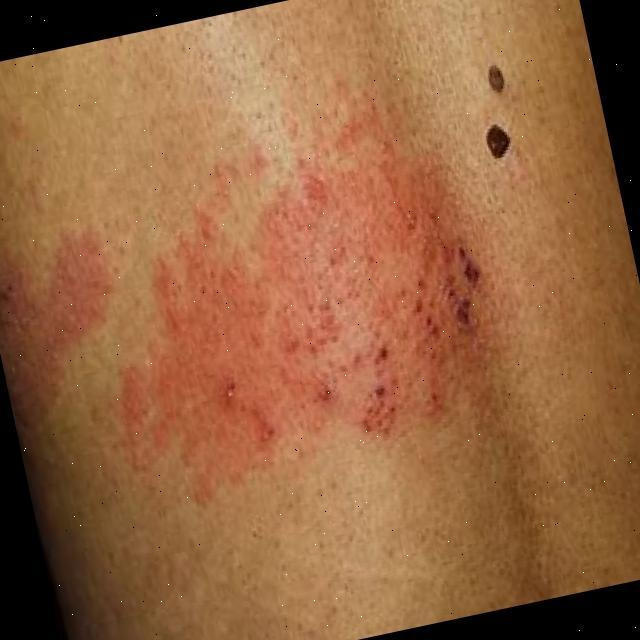Shingles: (108, 163, 481, 488), (22, 218, 111, 358)
